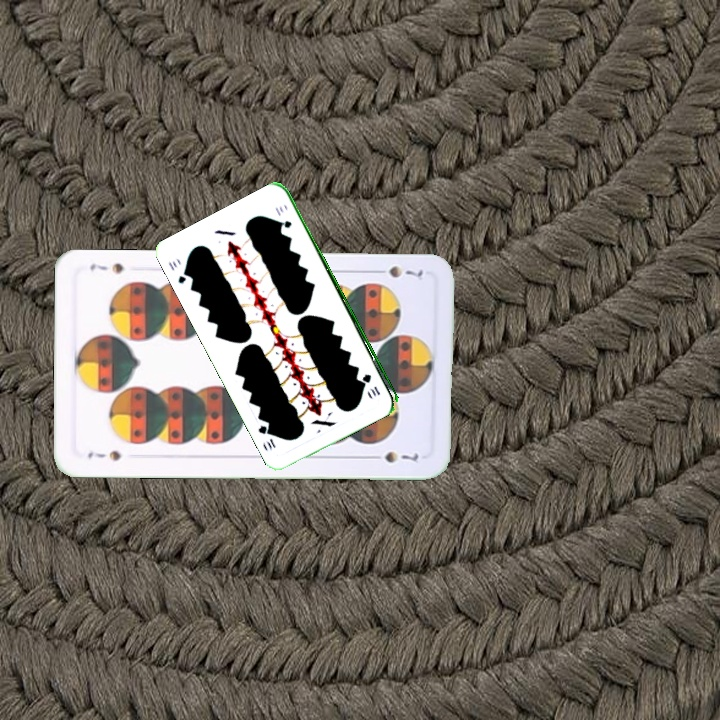G10: (164, 257, 193, 286), (360, 370, 383, 399)
S7: (369, 262, 425, 281), (84, 446, 124, 463)
